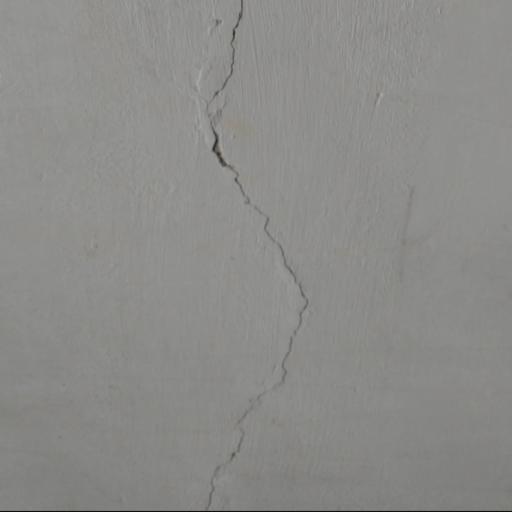minor_crack: (160, 0, 319, 509)
